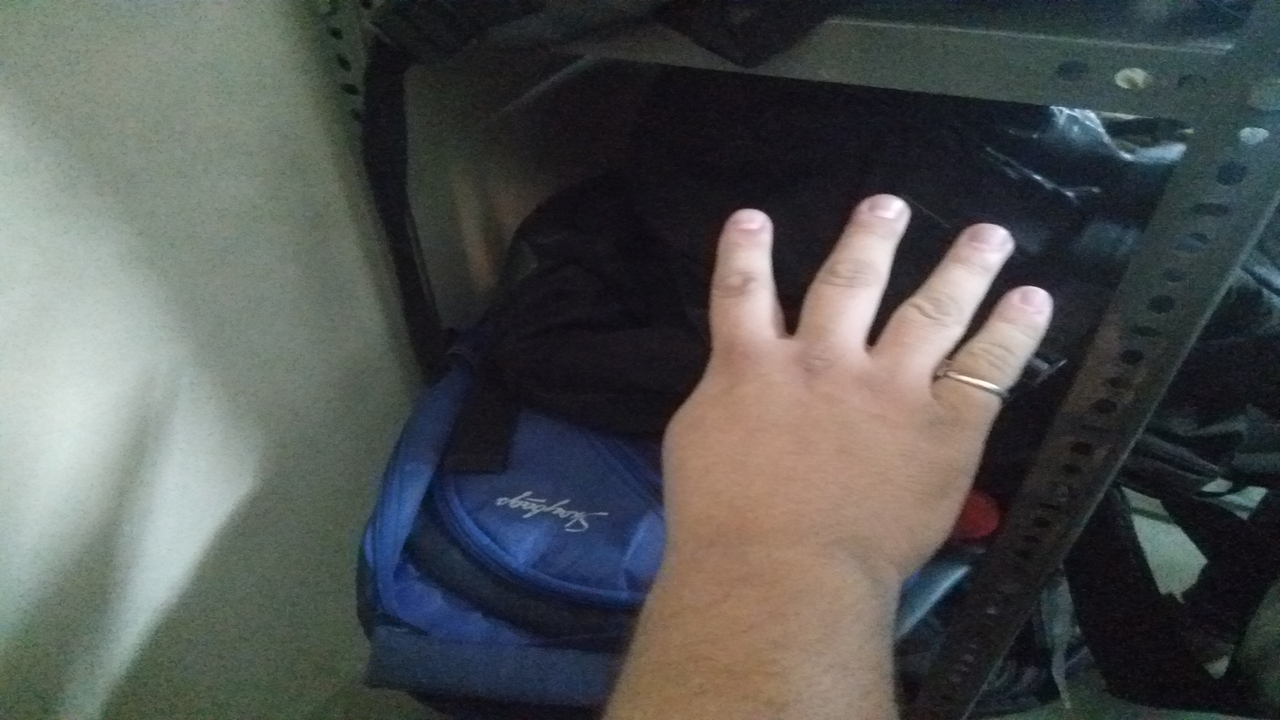fingertip: (946, 212, 1026, 270), (846, 184, 928, 240), (712, 204, 782, 260), (1000, 284, 1057, 317)
